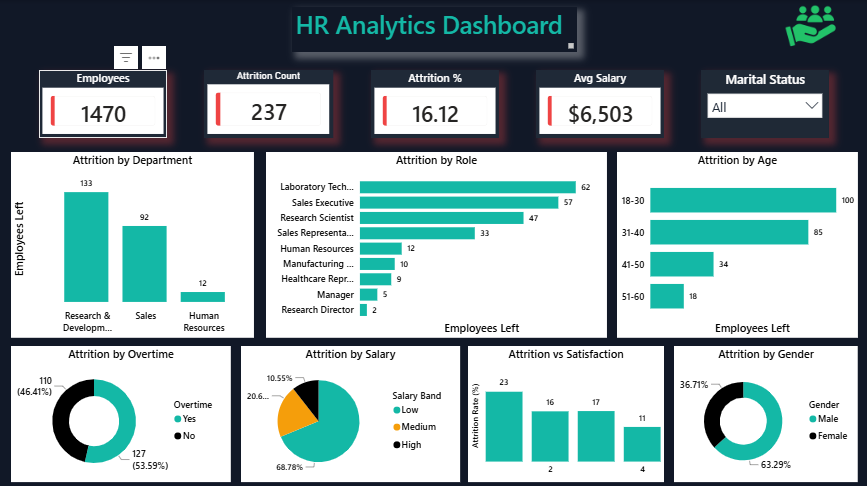

The page's visual inventory and layout, read from the dashboard file:
{"tool":"powerbi","page":{"name":"Attrition Analysis","canvas":[1280,720],"ordinal":0},"visuals":[{"type":"cardVisual","title":"Employees","fields":{"Data":["Employees.Total Employees"]},"box":[57.3,102.9,188.1,99.9],"z":0},{"type":"cardVisual","title":"Attrition Count","fields":{"Data":["Employees.Employees Left"]},"box":[300.1,102.9,189.6,99.9],"z":1000},{"type":"cardVisual","title":"Attrition %","fields":{"Data":["Employees.Attrition Rate"]},"box":[544.4,102.9,188.1,99.9],"z":2000},{"type":"cardVisual","title":"Avg Salary","fields":{"Data":["Employees.Average Salary"]},"box":[787.2,102.9,188.1,99.9],"z":3000},{"type":"columnChart","title":"Attrition by Department","fields":{"Category":["Employees.Department"],"Y":["Employees.Employees Left"]},"box":[16.2,223.3,357.1,273.3],"z":4000},{"type":"clusteredBarChart","title":"Attrition by Role","fields":{"Category":["Employees.JobRole"],"Y":["Employees.Employees Left"]},"box":[390.9,223.3,501.1,273.3],"z":5000},{"type":"donutChart","title":"Attrition by Overtime","fields":{"Category":["Employees.OverTime"],"Y":["Employees.Employees Left"]},"box":[16.2,508.4,323.3,199.8],"z":6000},{"type":"clusteredBarChart","title":"Attrition by Age","fields":{"Category":["Employees.Age Group"],"Y":["Employees.Employees Left"]},"box":[906.6,223.3,354.1,273.3],"z":7000},{"type":"pieChart","title":"Attrition by Salary","fields":{"Category":["Employees.Salary Group"],"Y":["Employees.Employees Left"]},"box":[354.1,508.4,321.8,199.8],"z":8000},{"type":"columnChart","title":"Attrition vs Satisfaction","fields":{"Category":["Employees.JobSatisfaction"],"Y":["Employees.Attrition Rate"]},"box":[687.7,508.4,288,199.8],"z":9000},{"type":"pieChart","title":"Attrition by Gender","fields":{"Category":["Employees.Gender"],"Y":["Employees.Employees Left"]},"box":[990.4,508.4,270.4,199.8],"z":10000},{"type":"slicer","title":"Marital Status","fields":{"Values":["Employees.MaritalStatus"]},"box":[1030,102.9,188.1,99.9],"z":11000},{"type":"textbox","title":"HR Analytics Dashboard","box":[429.1,10.3,418.8,66.1],"z":11001},{"type":"image","box":[1124.1,0,133.7,76.4],"z":11002}]}

Visuals, with their boxes in screenshot pixels (x1, y1, x2, y2), scaled from the page's 1280x720 canvas onto the 867x486 screenshot:
"Employees" cardVisual: <box>39,69,166,137</box>
"Attrition Count" cardVisual: <box>203,69,332,137</box>
"Attrition %" cardVisual: <box>369,69,496,137</box>
"Avg Salary" cardVisual: <box>533,69,661,137</box>
"Attrition by Department" columnChart: <box>11,151,253,335</box>
"Attrition by Role" clusteredBarChart: <box>265,151,604,335</box>
"Attrition by Overtime" donutChart: <box>11,343,230,478</box>
"Attrition by Age" clusteredBarChart: <box>614,151,854,335</box>
"Attrition by Salary" pieChart: <box>240,343,458,478</box>
"Attrition vs Satisfaction" columnChart: <box>466,343,661,478</box>
"Attrition by Gender" pieChart: <box>671,343,854,478</box>
"Marital Status" slicer: <box>698,69,825,137</box>
"HR Analytics Dashboard" textbox: <box>291,7,574,52</box>
image: <box>761,0,852,52</box>
